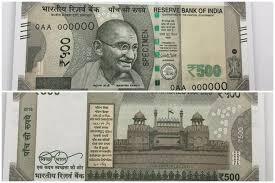fiveHundred: (28, 15, 233, 81)
